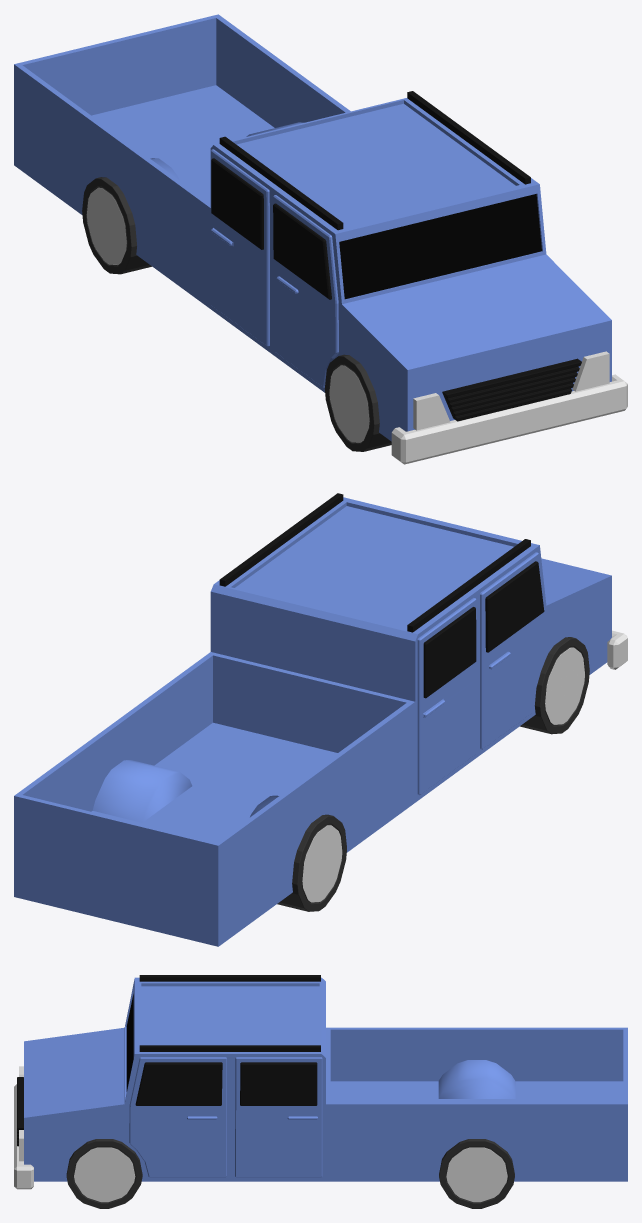
Rendered from Car_02.fbx.
3 views of the same model, one above another, from view 1: azimuth 30°, elevation 25°; view 2: azimuth 150°, elevation 25°; view 3: azimuth 270°, elevation 25° (orthographic). The views are drawn at different scales.
Visible parts, largest first — view 1: Car_02; view 2: Car_02; view 3: Car_02.
Part boxes in pixels (x1,y1,x2,y2): Car_02: (14,14,627,464); Car_02: (14,493,627,946); Car_02: (14,975,627,1208).
Bounding box in the file's own units: 400 × 345 × 1220.
